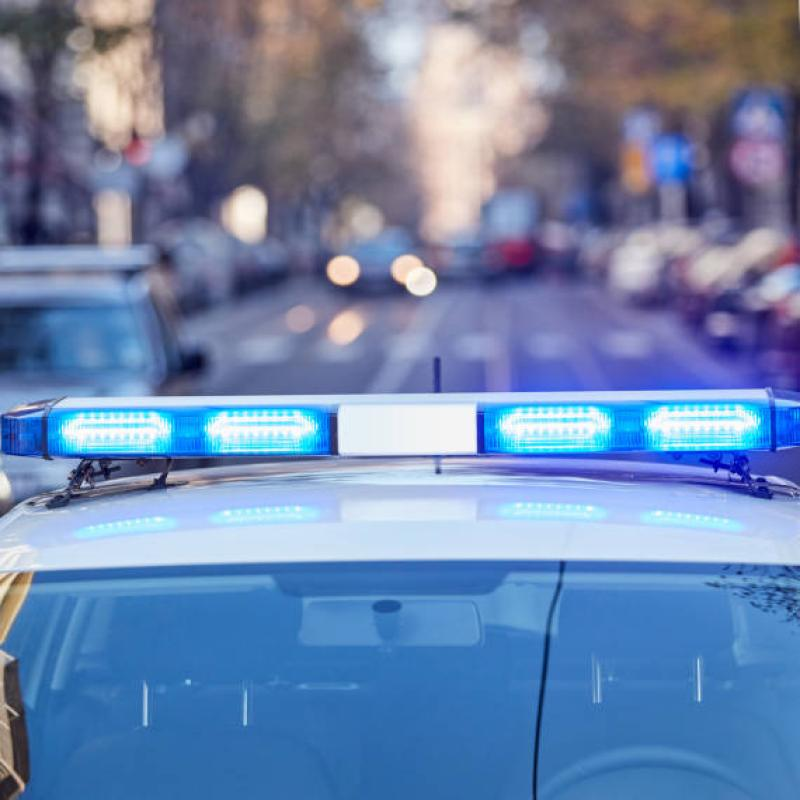AmbulanceSiren: (34, 342, 782, 473)
